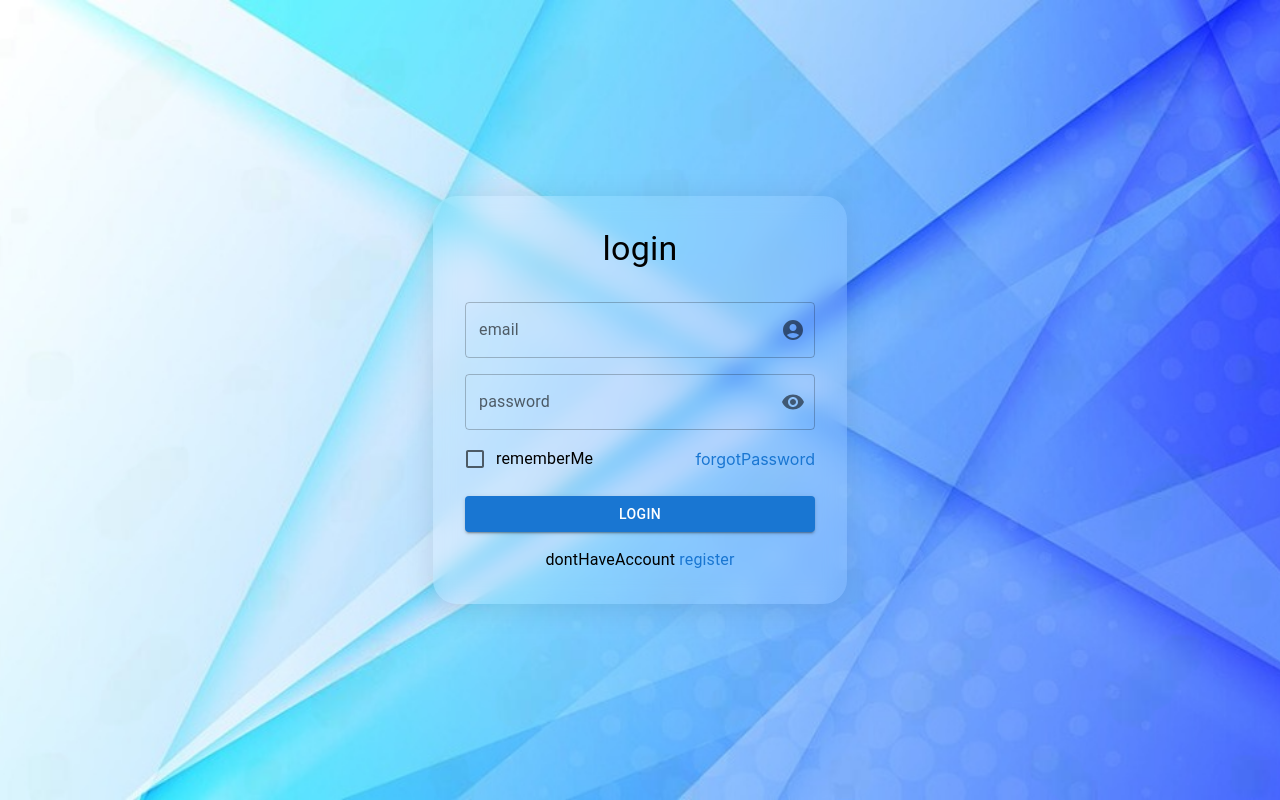
LoginScreen Component › shows validation errors when fields are empty
Click the button "login" at [640, 514], box [465,496,815,532]
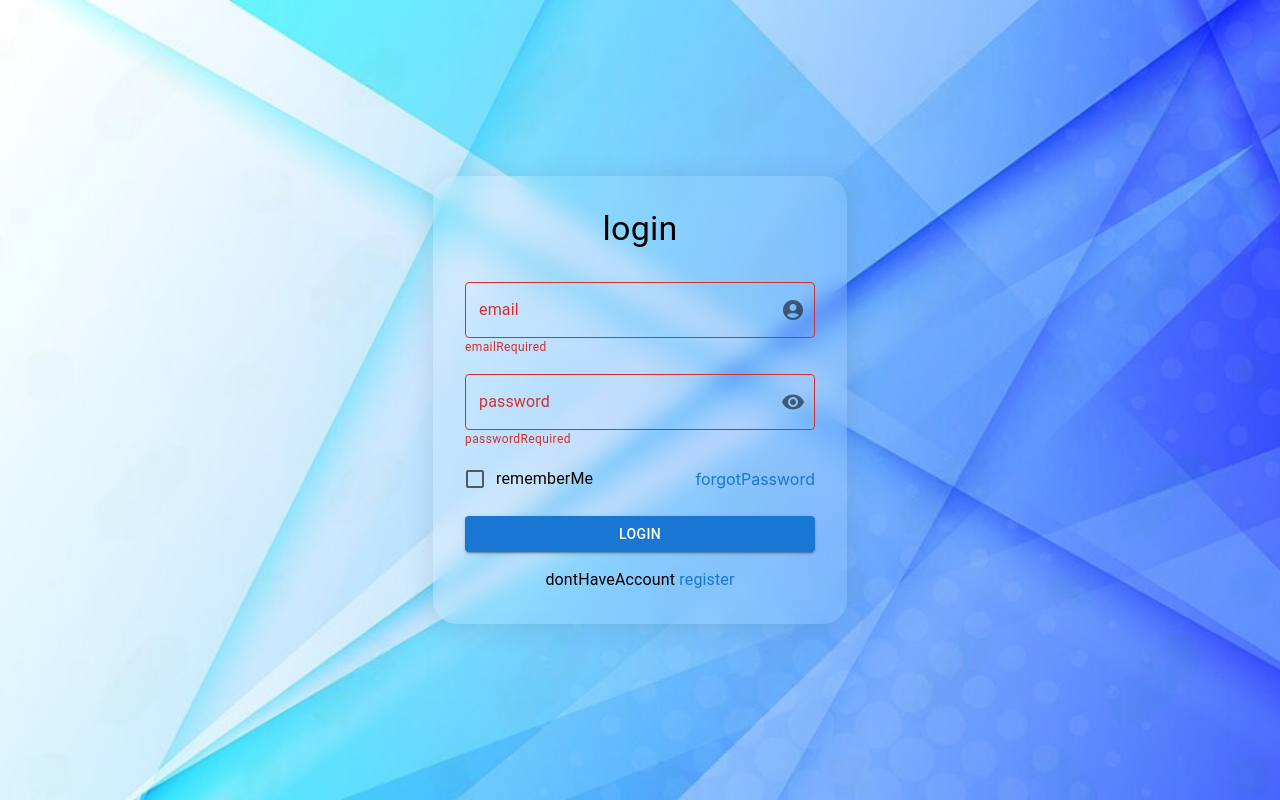
Check: the text "emailRequired" is shown, box [465,340,547,354]
Check: the text "passwordRequired" is shown, box [465,432,571,446]
